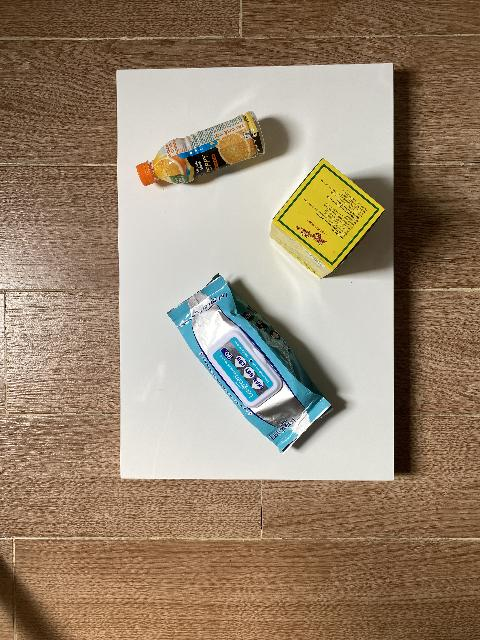Let-green_alcohol_wipes: (166, 273, 334, 455)
luong_kho: (270, 158, 385, 279)
teppy_orange_juice: (136, 111, 266, 186)
